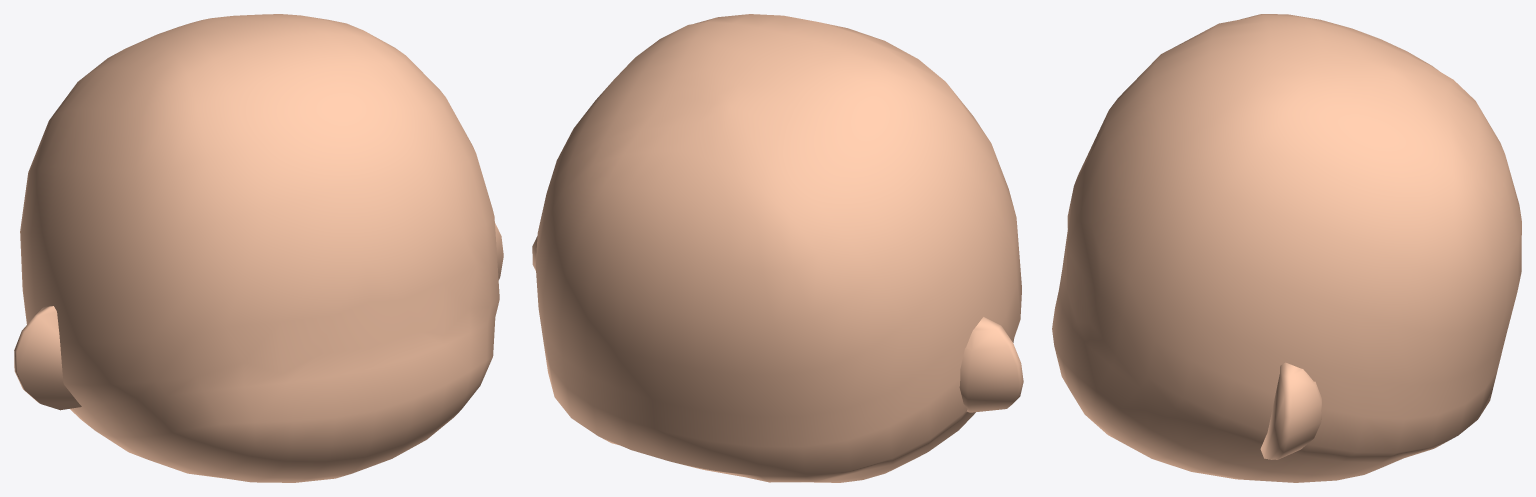
File: cabeza.glb
3 renders of one model, left to right at view 1: azimuth 30°, elevation 25°; view 2: azimuth 150°, elevation 25°; view 3: azimuth 270°, elevation 25°, orthographic. The views are drawn at different scales.
Parts seen in each view (by area): view 1: cabeza, orejas; view 2: cabeza, orejas; view 3: cabeza, orejas.
Part boxes in pixels (x1,y1,x2,y2): cabeza: (20,14,499,482); orejas: (14,223,503,410); cabeza: (535,14,1021,482); orejas: (532,236,1023,412); cabeza: (1052,14,1521,482); orejas: (1260,362,1321,459).
Bounding box in the file's own units: 0.9955 × 0.7967 × 0.8456.
